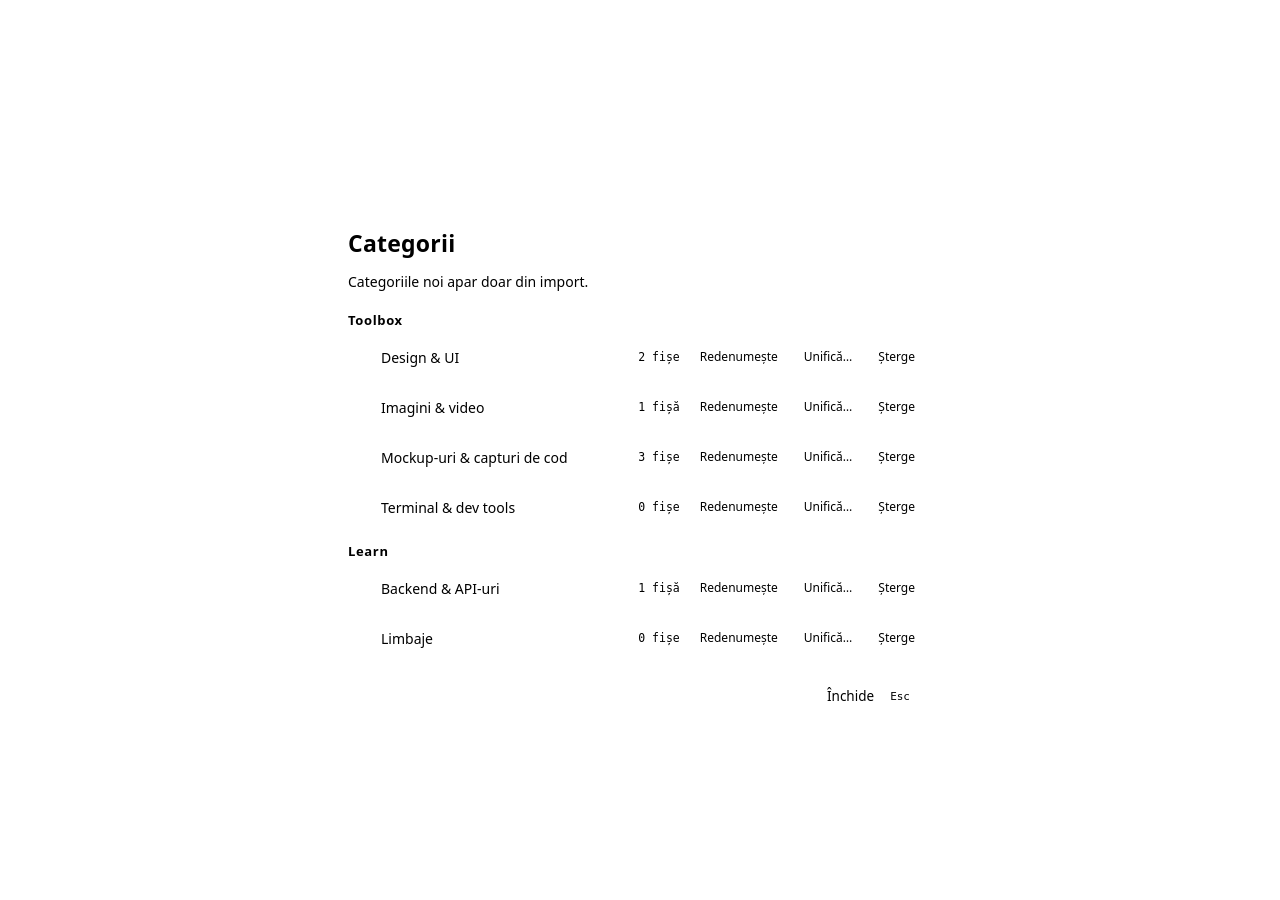
Test case: CategoryManager: renaming in place › says a taken name under the row and stays in the rename
This screenshot has width=1280, height=900.
Click the button "Redenumește" in the row of "Mockup-uri & capturi de cod" at (739, 457), box x1=690 y1=443 x2=788 y2=471
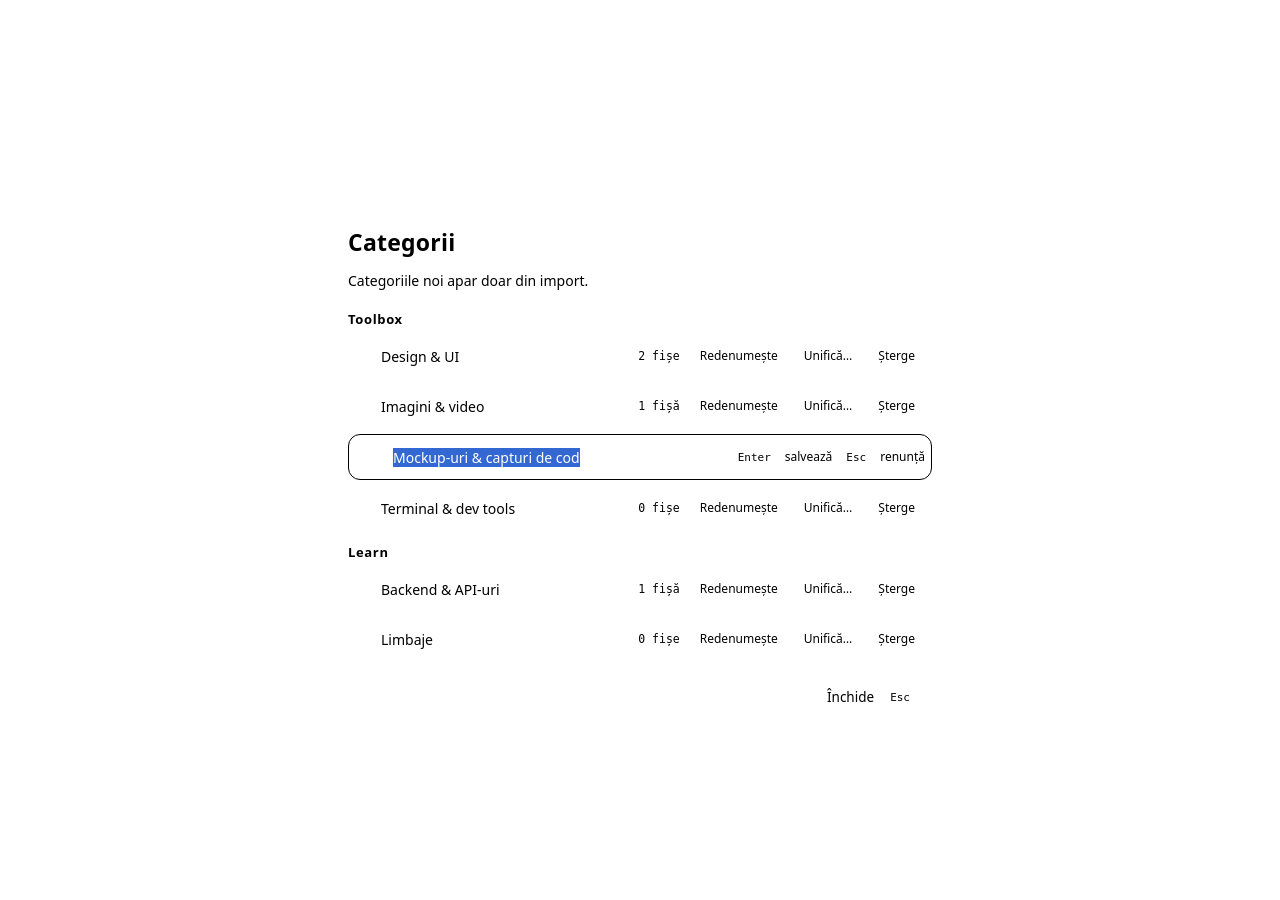
Replace the text in the field named "Numele categoriei" with "design & ui" at (550, 457), box x1=381 y1=439 x2=720 y2=475
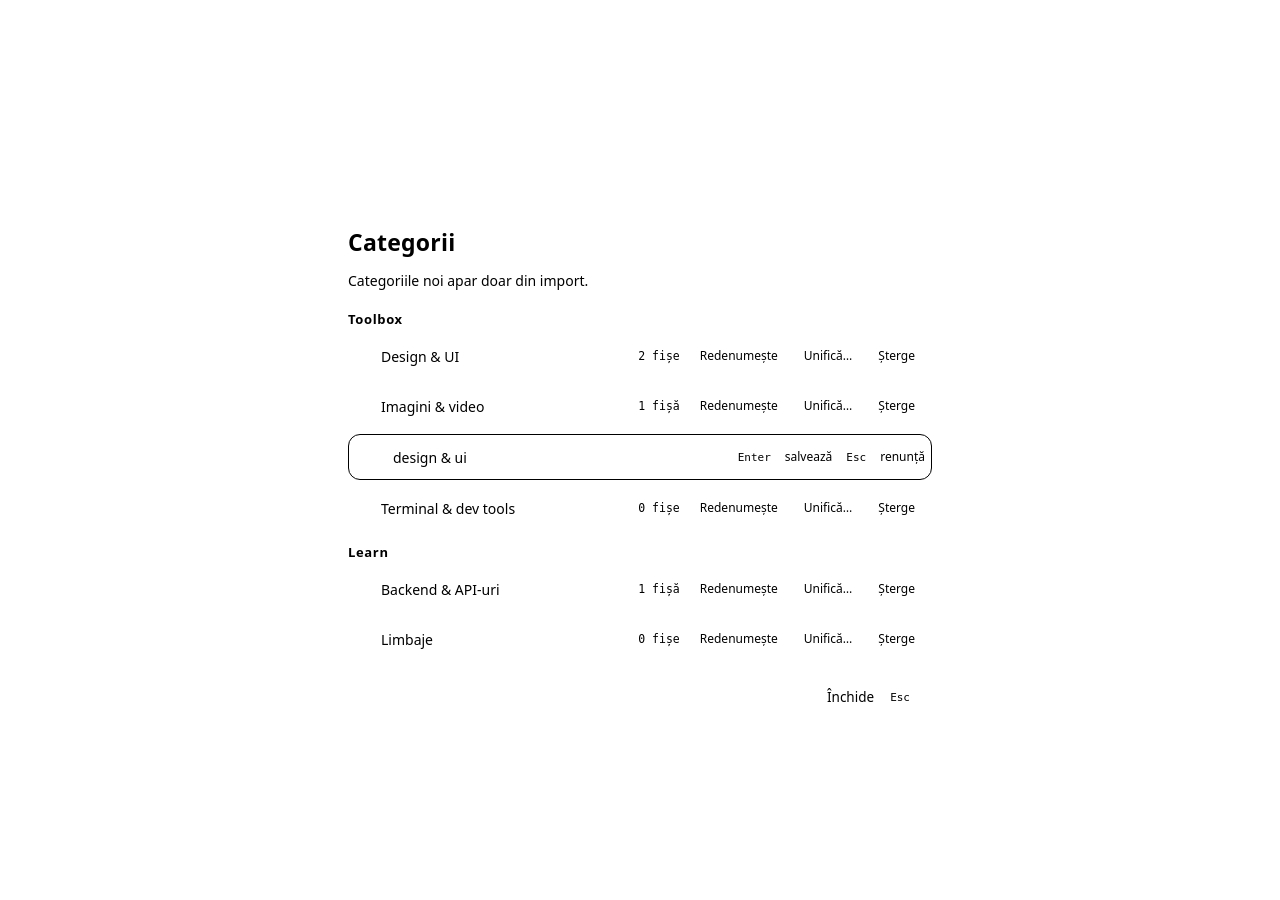
Press Enter in the field named "Numele categoriei", box x1=381 y1=439 x2=720 y2=475
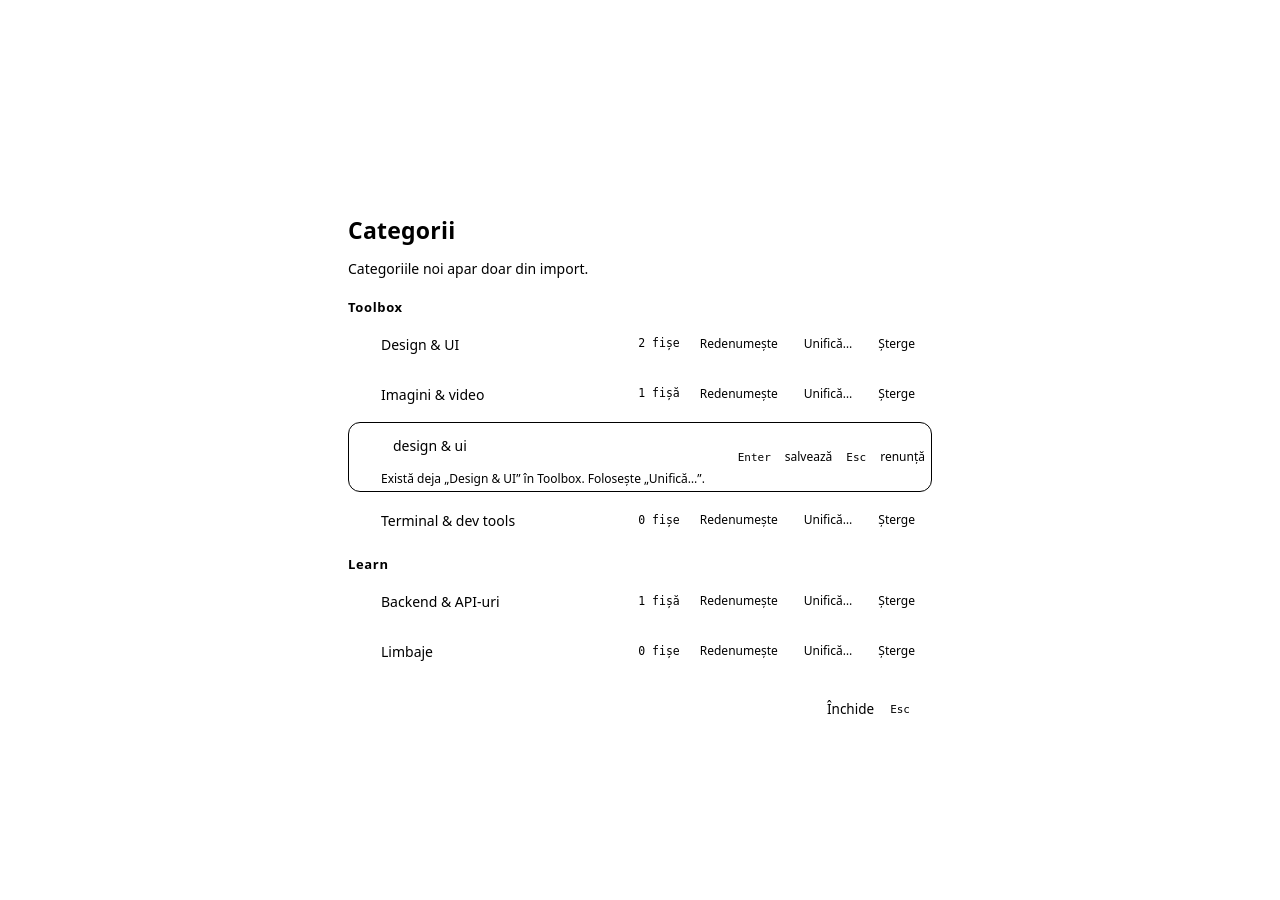
Expected: the message reads "Există deja „Design & UI” în Toolbox. Folosește „Unifică…”.", x1=381 y1=470 x2=705 y2=487
Replace the text in the field with "Alt" at (550, 445), box x1=381 y1=427 x2=720 y2=463
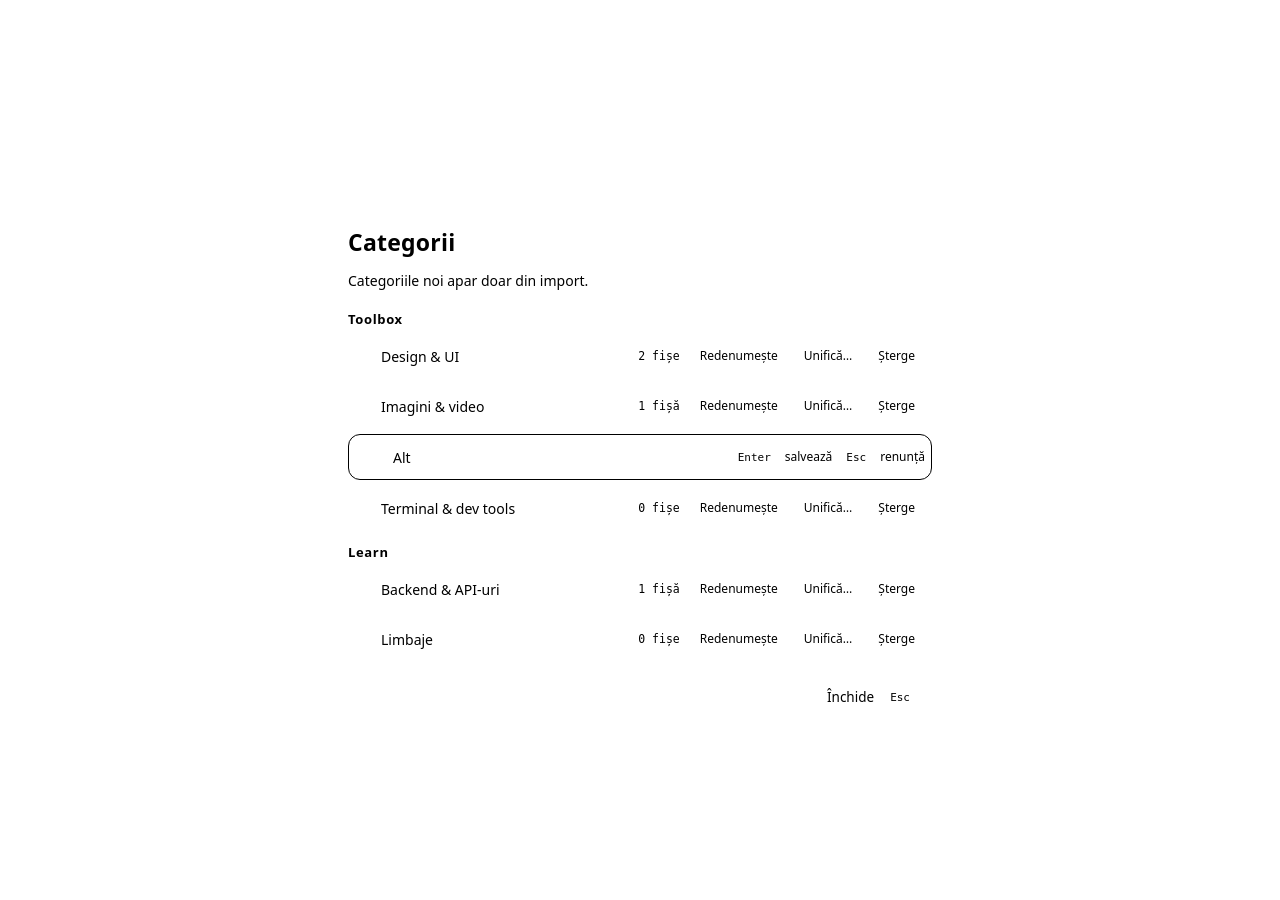
Expected: the message "Există deja „Design & UI” în Toolbox. Folosește „Unifică…”." is gone
